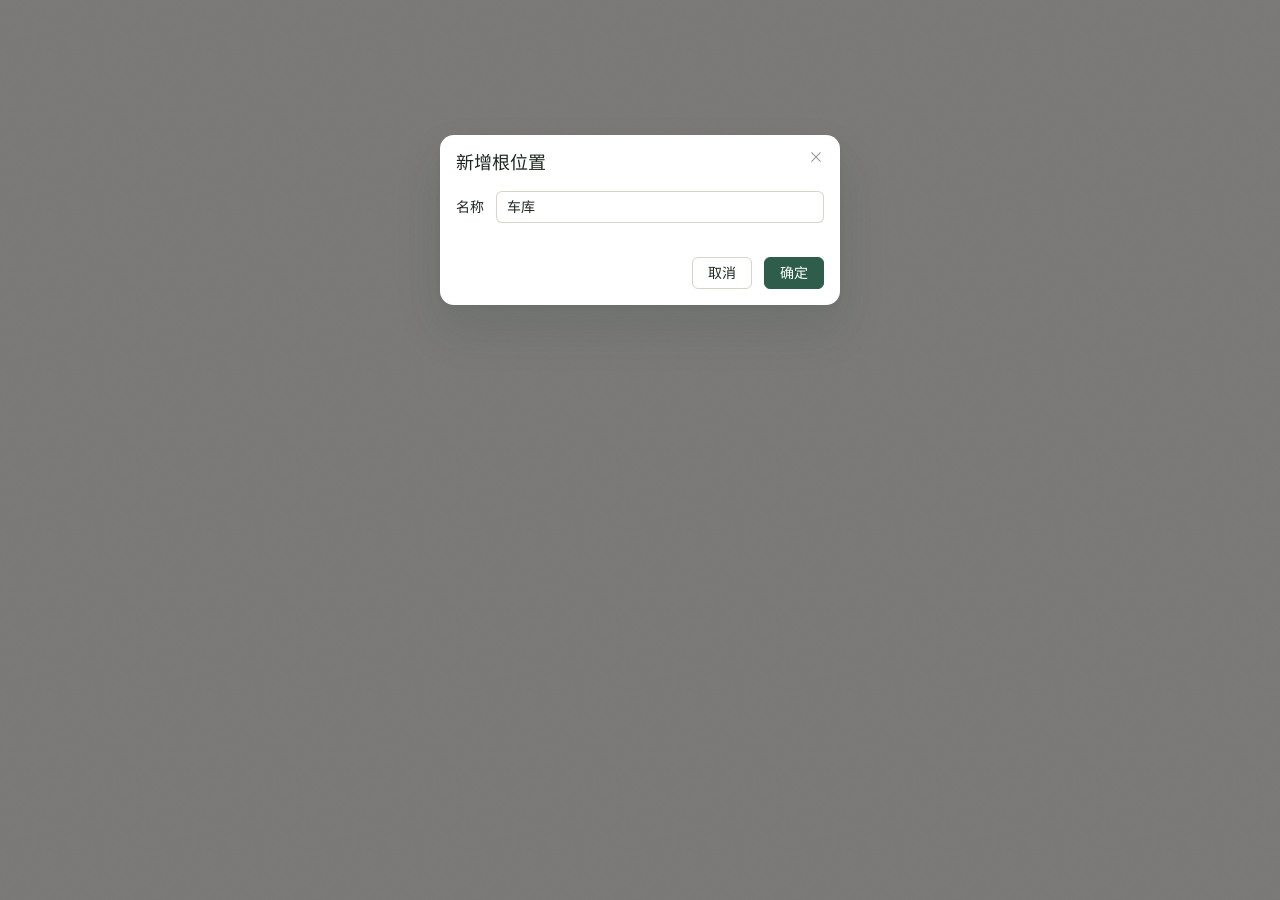
Test: LocationCreateDialog › stays open and surfaces the error when the API rejects
The width and height of the screenshot is (1280, 900).
Click the button "确定": (794, 273) top-left (764, 257), bottom-right (824, 289)
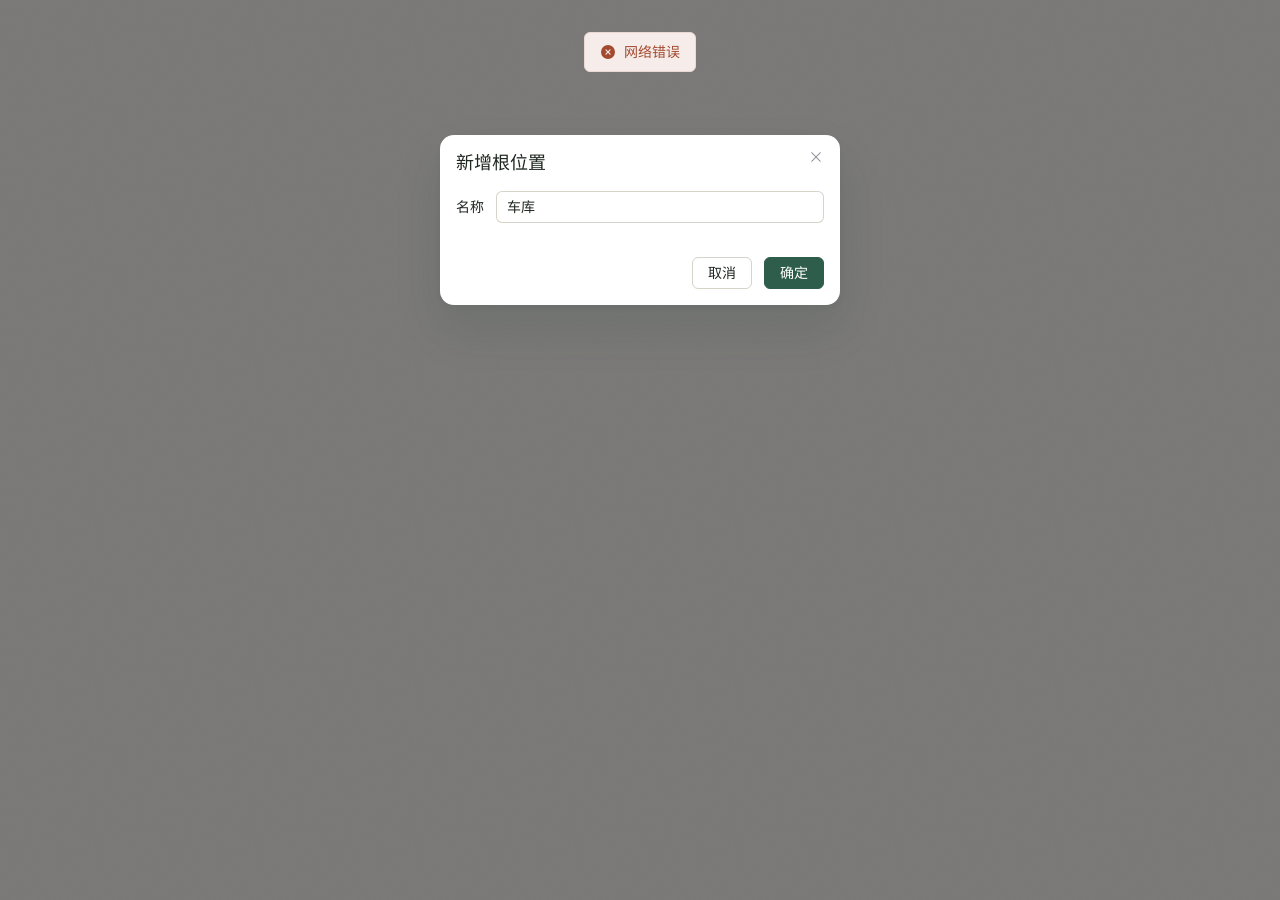
Check: the message "网络错误" is shown, box top-left (584, 32), bottom-right (696, 72)
